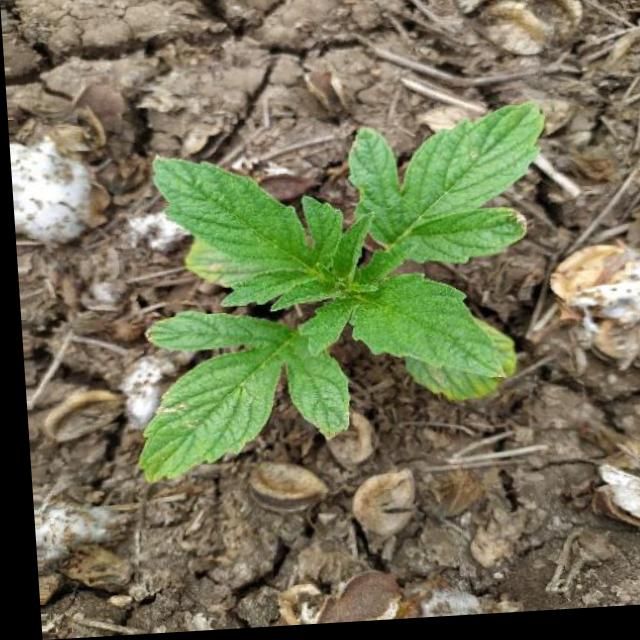crop: (94, 87, 579, 497)
